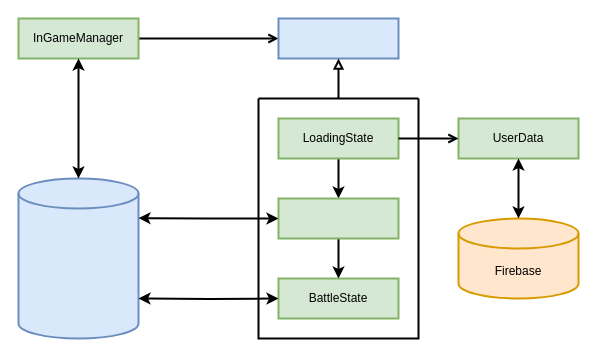
Some shapes in this 596 by 356 pixel diagram are drawn without their labels. The centre of each missing label's shape, as x and y in pixels:
IGameState: (x=338, y=38)
Photon: (x=78, y=258)
WaitingState: (x=338, y=218)
